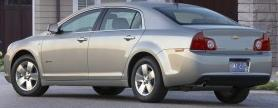back_view: (182, 24, 274, 91)
backlight: (190, 30, 221, 53)
side_glass: (56, 5, 148, 35)
